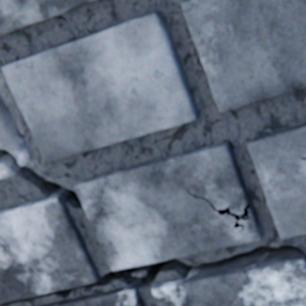brick: (3, 12, 198, 163), (74, 142, 262, 270), (181, 0, 305, 112), (0, 194, 100, 303), (152, 255, 305, 305), (247, 125, 305, 239), (0, 0, 99, 37), (41, 285, 144, 305)
broken_brick: (0, 94, 32, 165), (0, 163, 18, 179)
crack: (1, 244, 304, 305), (0, 149, 83, 208), (210, 203, 249, 230), (186, 188, 208, 202)
